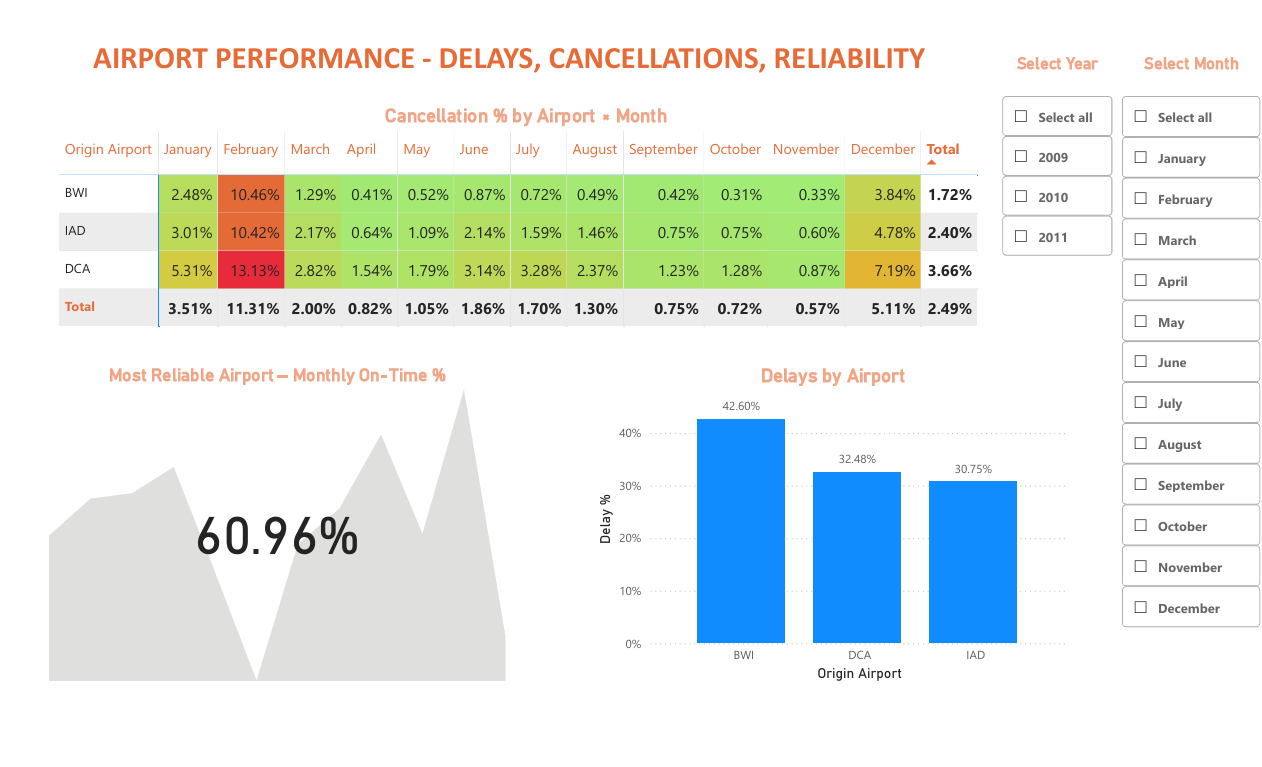

The dashboard page shown, as its layout file describes it:
{"tool":"powerbi","page":{"name":"Airlport Performance","canvas":[1280,720],"ordinal":2},"visuals":[{"type":"textbox","box":[0,0,1004.3,73.8],"z":0},{"type":"advancedSlicerVisual","title":"Select Month","fields":{"Values":["FactFlights.Month"]},"box":[1127.4,19.7,152.6,622.8],"z":1000},{"type":"advancedSlicerVisual","title":"Select Year","fields":{"Values":["FactFlights.Year"]},"box":[1004.3,19.7,123.1,237.5],"z":2000},{"type":"columnChart","title":"Delays by Airport","fields":{"Category":["dimAirport.Origin Airport"],"Y":["FactFlights.Delay %"]},"box":[588.2,339.8,493.7,330.7],"z":3000},{"type":"pivotTable","title":"Cancellation % by Airport × Month","fields":{"Rows":["dimAirport.Origin Airport"],"Columns":["FactFlights.Month"],"Values":["FactFlights.Cancellation %"]},"box":[35,73.1,969.1,242.3],"z":4000},{"type":"kpi","title":"Most Reliable Airport – Monthly On-Time %","fields":{"TrendLine":["FactFlights.Month"],"Indicator":["FactFlights.On-Time %"]},"box":[24.4,339.8,478.5,330.7],"z":5000}]}

Visuals, with their boxes on the page's 1280x720 design canvas (x1, y1, x2, y2). These are canvas units, not pixel positions in the 1262x767 screenshot, which may show the page scaled, cropped or inside an application window:
textbox: <region>0, 0, 1004, 74</region>
"Select Month" advancedSlicerVisual: <region>1127, 20, 1280, 642</region>
"Select Year" advancedSlicerVisual: <region>1004, 20, 1127, 257</region>
"Delays by Airport" columnChart: <region>588, 340, 1082, 670</region>
"Cancellation % by Airport × Month" pivotTable: <region>35, 73, 1004, 315</region>
"Most Reliable Airport – Monthly On-Time %" kpi: <region>24, 340, 503, 670</region>
